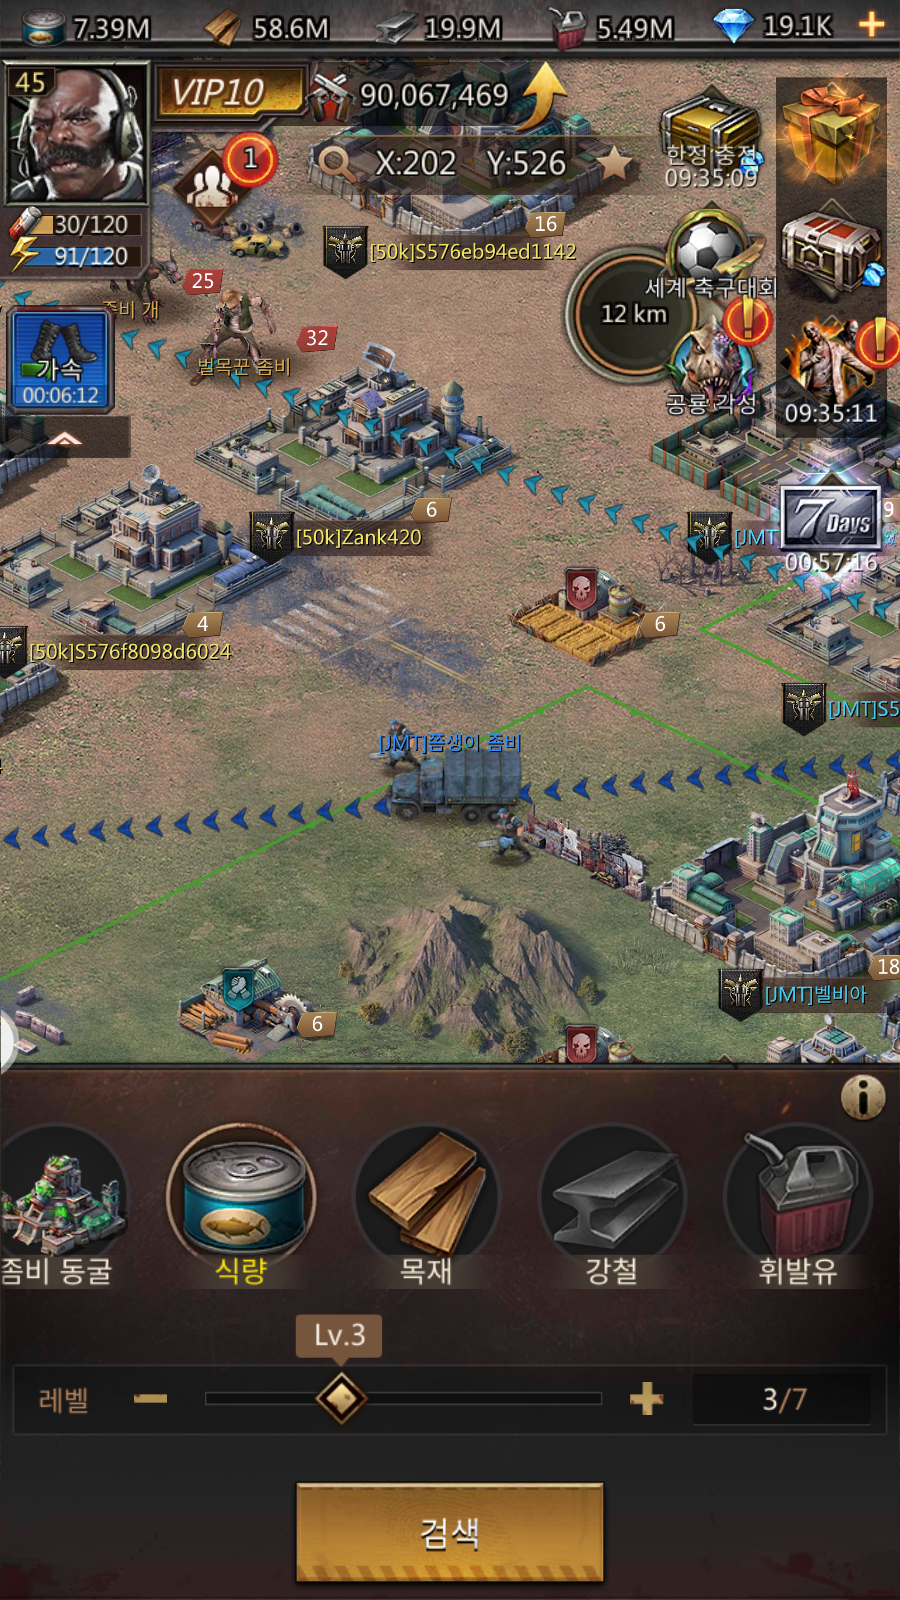rss_food_in_panel: (168, 1120, 309, 1288)
rss_gas_in_panel: (722, 1119, 871, 1296)
rss_lv3: (293, 1313, 385, 1354)
rss_minus_in_panel: (124, 1368, 175, 1425)
rss_plus_in_panel: (619, 1373, 673, 1424)
rss_search_in_panel: (297, 1485, 605, 1580)
rss_steel_in_panel: (541, 1122, 690, 1295)
rss_wood_in_panel: (351, 1127, 509, 1293)
troops_cnt_1: (163, 127, 288, 241)
